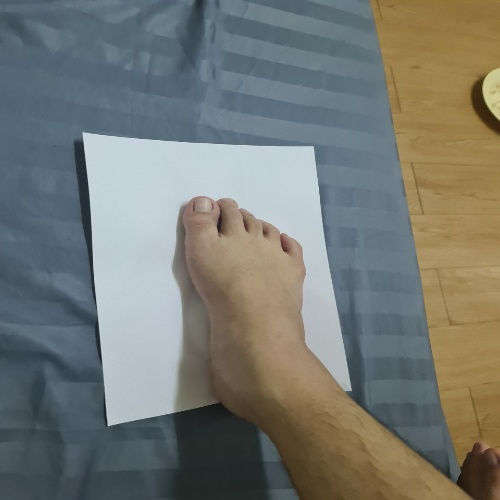Top_Foot: (62, 112, 382, 445)
